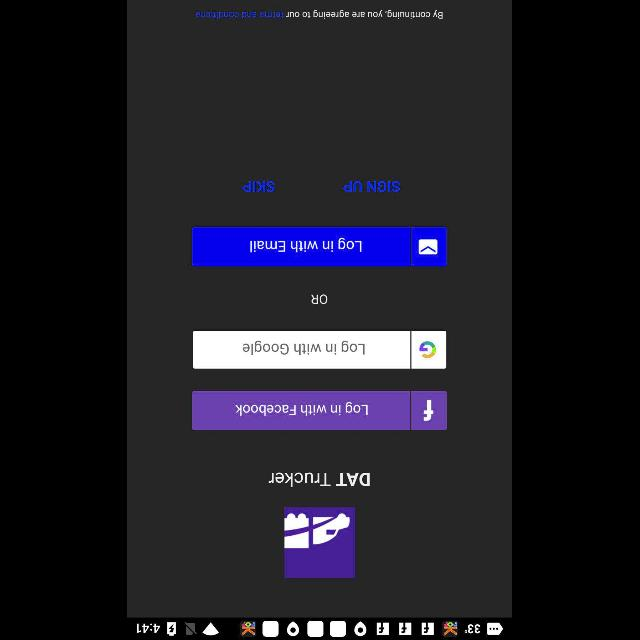image: (284, 506, 358, 578)
text: (196, 10, 444, 20), (269, 472, 371, 488), (344, 180, 401, 192), (243, 180, 275, 192), (312, 294, 328, 304)
textbutton: (192, 390, 448, 430), (192, 227, 448, 267), (194, 331, 446, 369)
uppertaskbar: (128, 617, 512, 639)
